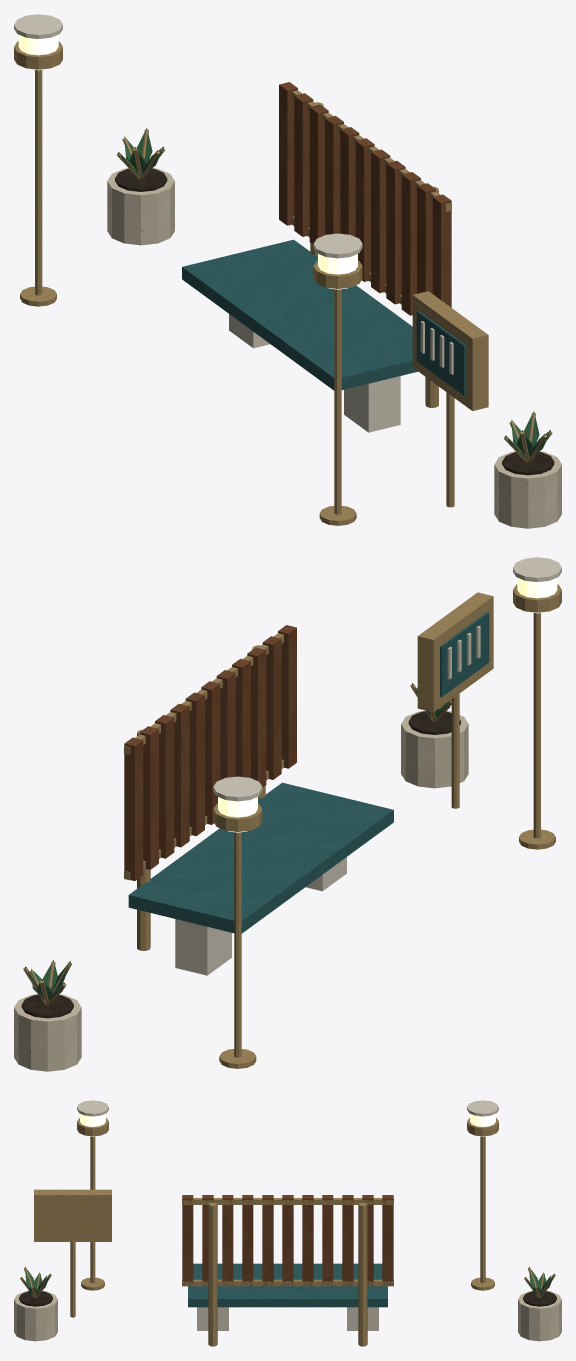
Rendered from G7_Gallery_D11_r001.glb.
3 renders of one model, top to bottom at view 1: azimuth 30°, elevation 25°; view 2: azimuth 150°, elevation 25°; view 3: azimuth 270°, elevation 25°, orthographic. The views are drawn at different scales.
Visible parts, largest first — view 1: G7_D11_wood_solid, G7_D11_teal_solid, G7_D11_metal_solid, G7_D11_stone_solid, G7_D11_ivory_solid, G7_D11_soil_solid, G7_D11_leaf_visual_plant, G7_D11_lens_visual_lens, G7_D11_ivory_visual_mark; view 2: G7_D11_wood_solid, G7_D11_teal_solid, G7_D11_metal_solid, G7_D11_stone_solid, G7_D11_ivory_solid, G7_D11_soil_solid, G7_D11_lens_visual_lens, G7_D11_leaf_visual_plant, G7_D11_ivory_visual_mark; view 3: G7_D11_metal_solid, G7_D11_wood_solid, G7_D11_teal_solid, G7_D11_stone_solid, G7_D11_ivory_solid, G7_D11_soil_solid, G7_D11_leaf_visual_plant, G7_D11_lens_visual_lens.
Boxes of the visible parts, left/top/right/bottom form: G7_D11_wood_solid: left=279, top=82, right=451, bottom=315; G7_D11_teal_solid: left=182, top=239, right=466, bottom=395; G7_D11_metal_solid: left=14, top=41, right=552, bottom=525; G7_D11_stone_solid: left=107, top=168, right=561, bottom=528; G7_D11_ivory_solid: left=14, top=14, right=400, bottom=432; G7_D11_soil_solid: left=115, top=168, right=554, bottom=475; G7_D11_leaf_visual_plant: left=118, top=128, right=550, bottom=458; G7_D11_lens_visual_lens: left=18, top=34, right=357, bottom=289; G7_D11_ivory_visual_mark: left=420, top=321, right=453, bottom=374; G7_D11_wood_solid: left=124, top=625, right=296, bottom=880; G7_D11_teal_solid: left=128, top=612, right=489, bottom=933; G7_D11_metal_solid: left=23, top=584, right=561, bottom=1068; G7_D11_stone_solid: left=14, top=711, right=468, bottom=1071; G7_D11_ivory_solid: left=175, top=557, right=561, bottom=975; G7_D11_soil_solid: left=21, top=711, right=460, bottom=1018; G7_D11_lens_visual_lens: left=218, top=577, right=557, bottom=832; G7_D11_leaf_visual_plant: left=25, top=683, right=451, bottom=1001; G7_D11_ivory_visual_mark: left=447, top=626, right=480, bottom=679; G7_D11_metal_solid: left=20, top=1118, right=555, bottom=1346; G7_D11_wood_solid: left=182, top=1195, right=393, bottom=1286; G7_D11_teal_solid: left=188, top=1263, right=387, bottom=1307; G7_D11_stone_solid: left=14, top=1291, right=561, bottom=1341; G7_D11_ivory_solid: left=77, top=1100, right=498, bottom=1330; G7_D11_soil_solid: left=19, top=1291, right=556, bottom=1306; G7_D11_leaf_visual_plant: left=21, top=1266, right=554, bottom=1295; G7_D11_lens_visual_lens: left=80, top=1113, right=495, bottom=1136.
Bounding box in the file's own units: 1.61 × 1.97 × 5.48.
Materials: 8 (8 with a texture image).
